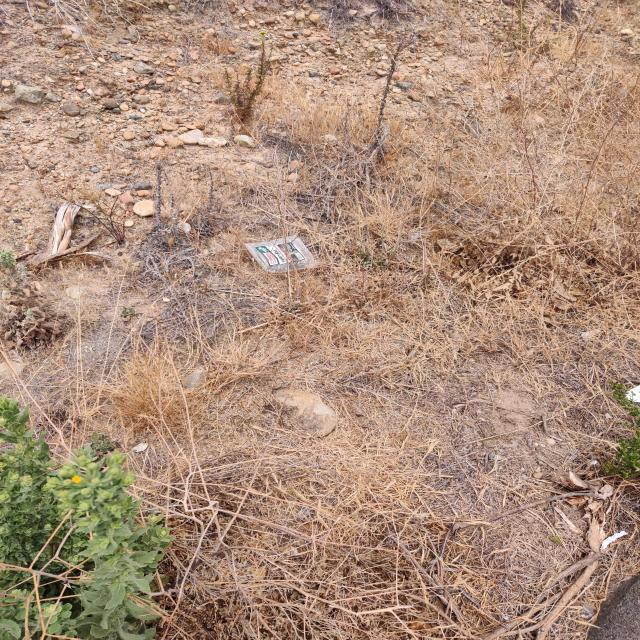litter: (244, 229, 326, 276)
